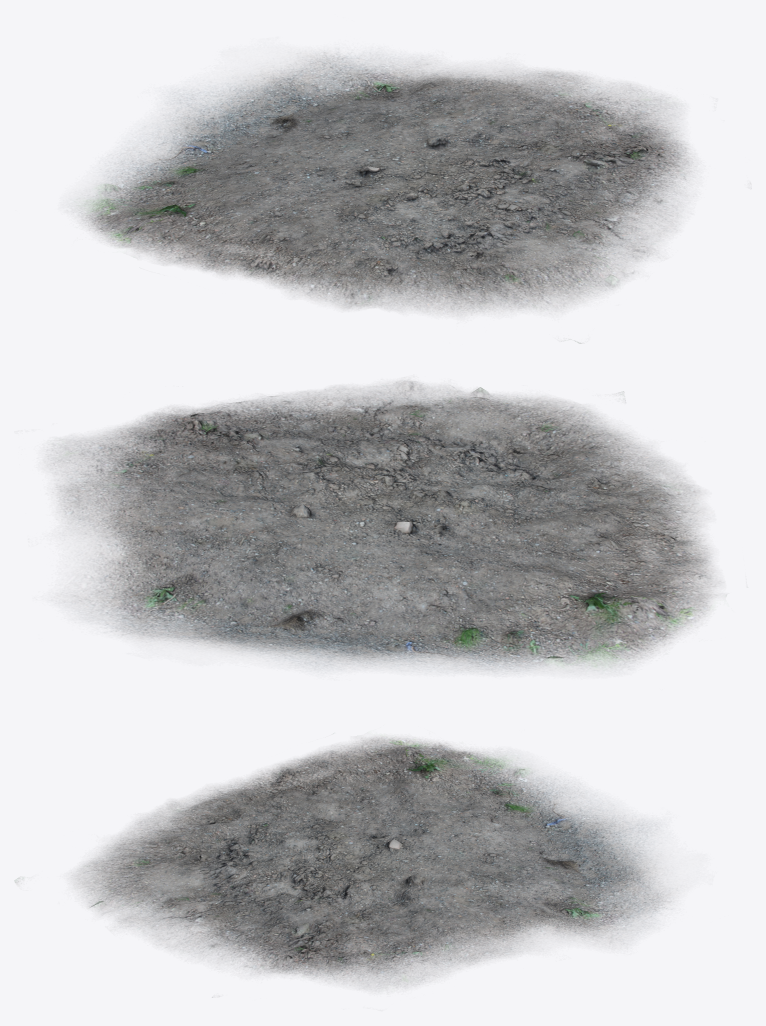
The model's file is rocks_and_dirt_patch_4k_poly.glb.
3 views of the same model, one above another, from view 1: azimuth 30°, elevation 25°; view 2: azimuth 150°, elevation 25°; view 3: azimuth 270°, elevation 25° (orthographic). The views are drawn at different scales.
Parts seen in each view (by area): view 1: g; view 2: g; view 3: g.
Part boxes in pixels (x1=…): g: x1=73, y1=49, x2=693, y2=343; g: x1=47, y1=380, x2=719, y2=672; g: x1=15, y1=733, x2=678, y2=997.
Size of the model in its own units: 2.18 by 0.1445 by 2.27.
Materials: 1 (1 with a texture image).
